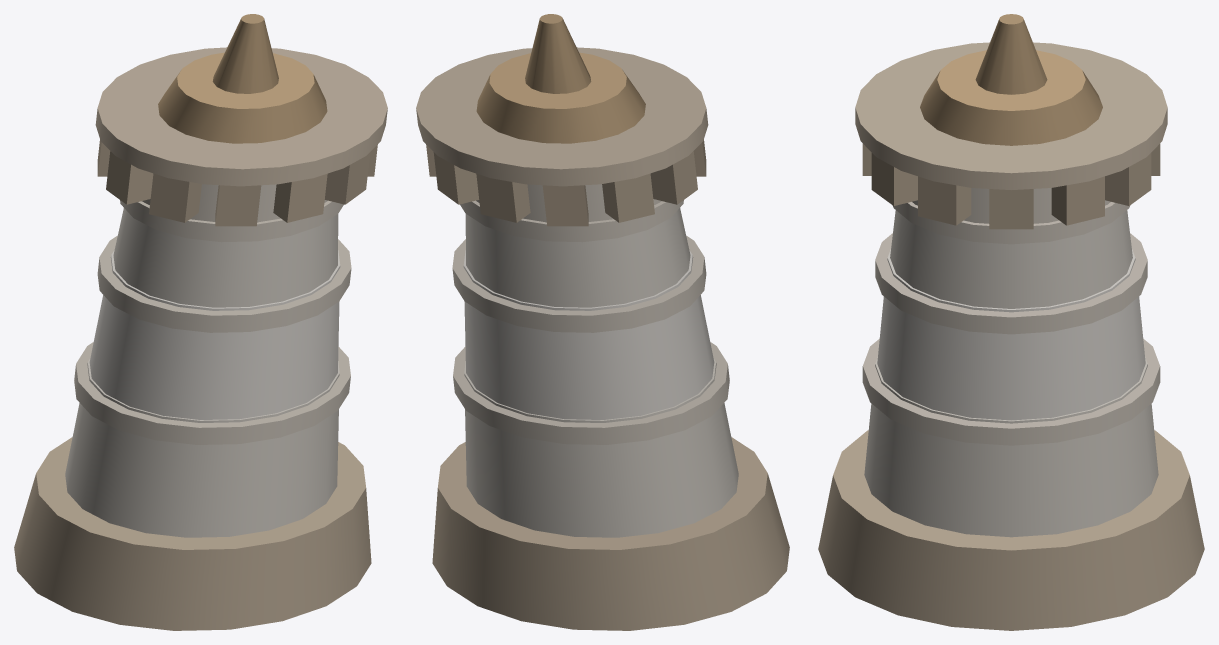
File: tower.glb
3 views of the same model, side by side, from view 1: azimuth 30°, elevation 25°; view 2: azimuth 150°, elevation 25°; view 3: azimuth 270°, elevation 25° (orthographic). The views are drawn at different scales.
Size of the model in its own units: 1.66 by 2.5 by 1.56.
